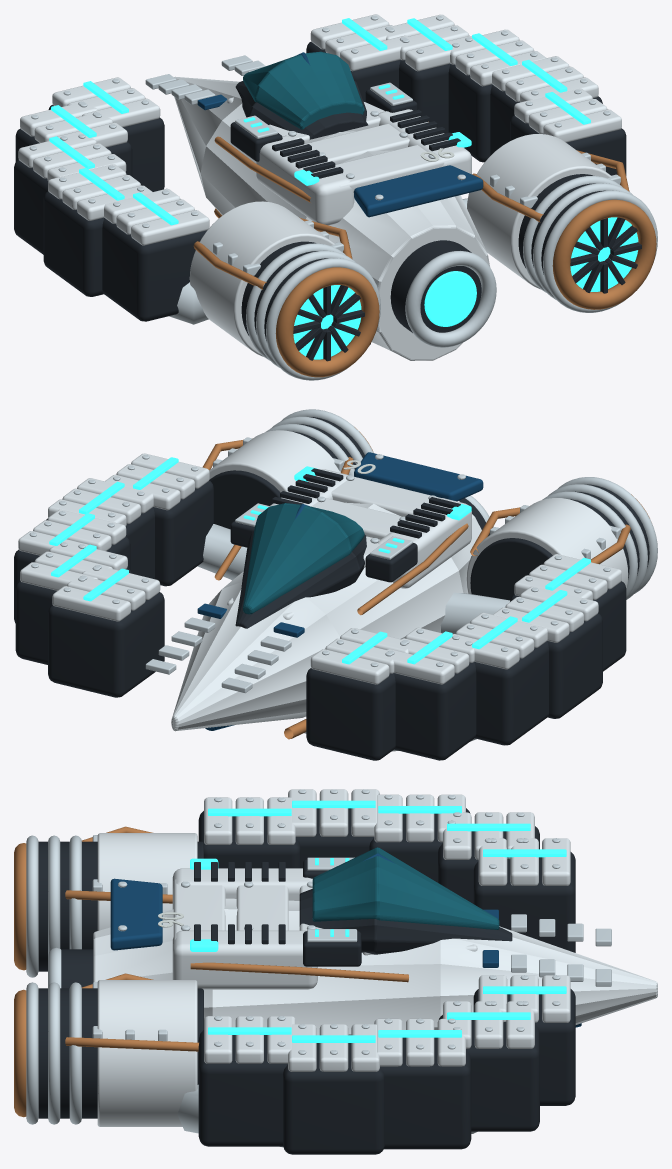
The picture shows the model from 3 angles, top to bottom: view 1: azimuth 30°, elevation 25°; view 2: azimuth 150°, elevation 25°; view 3: azimuth 270°, elevation 25°; orthographic projection. The views are drawn at different scales.
Visible parts, largest first — view 1: SolidHull_06; view 2: SolidHull_06; view 3: SolidHull_06.
Part boxes in pixels (x1,y1,x2,y2): SolidHull_06: (14,14,657,380); SolidHull_06: (14,409,657,760); SolidHull_06: (14,789,657,1154).
Bounding box in the file's own units: 3 × 1.21 × 2.97.
